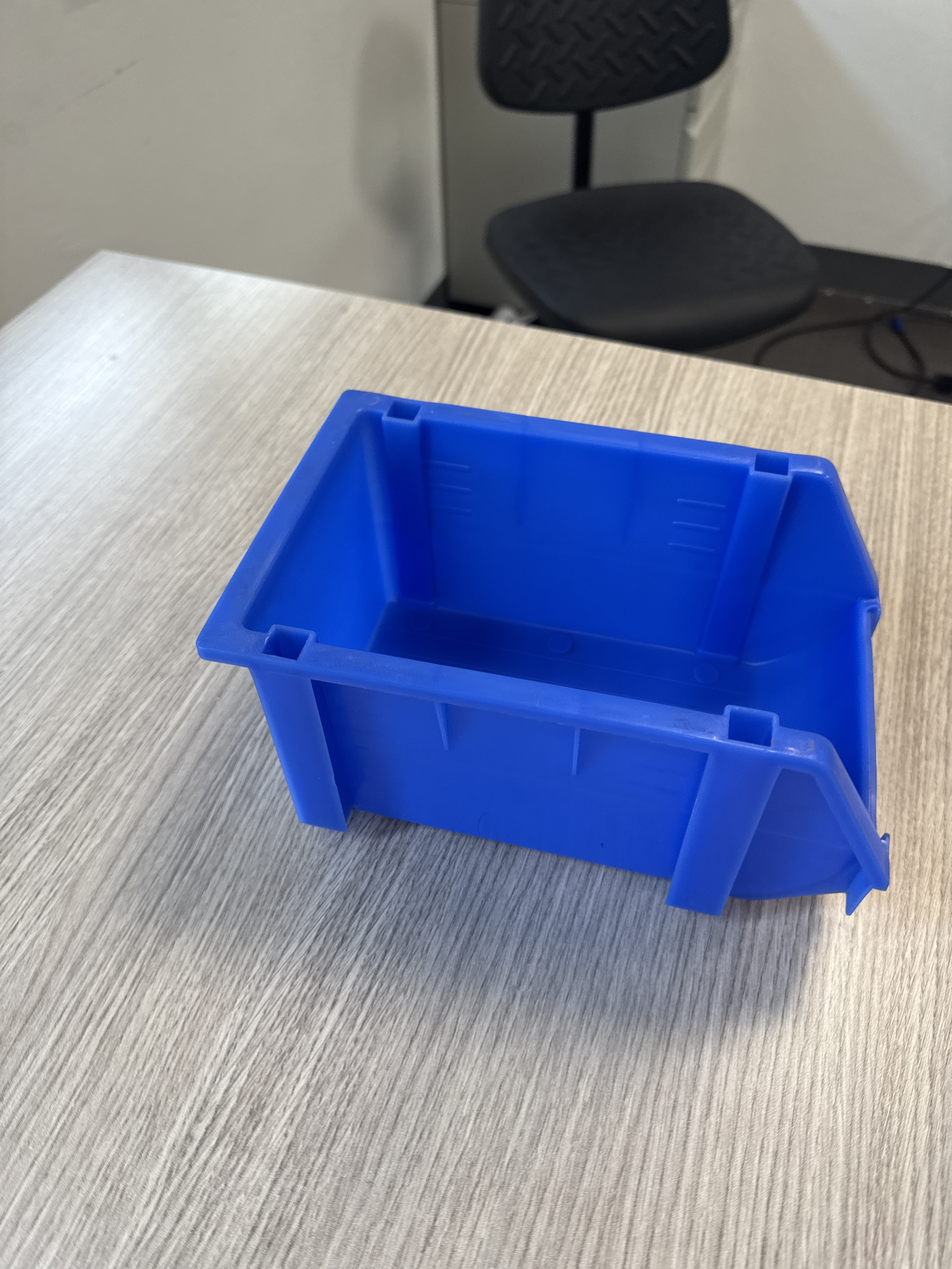Bin Boundary: (247, 325, 952, 812)
